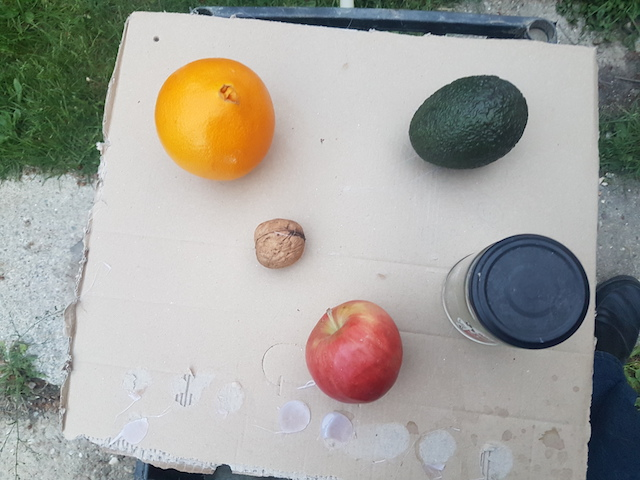apple: (303, 298, 404, 403)
avocado: (408, 73, 528, 171)
nut: (248, 217, 310, 271)
orange: (153, 58, 272, 184)
recipient: (470, 232, 590, 348)
